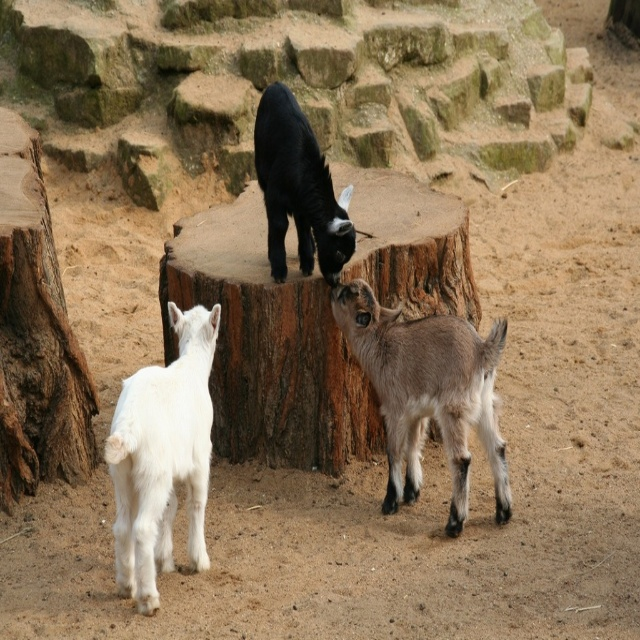Goat: (331, 280, 517, 535), (102, 302, 222, 616), (254, 79, 356, 280)
